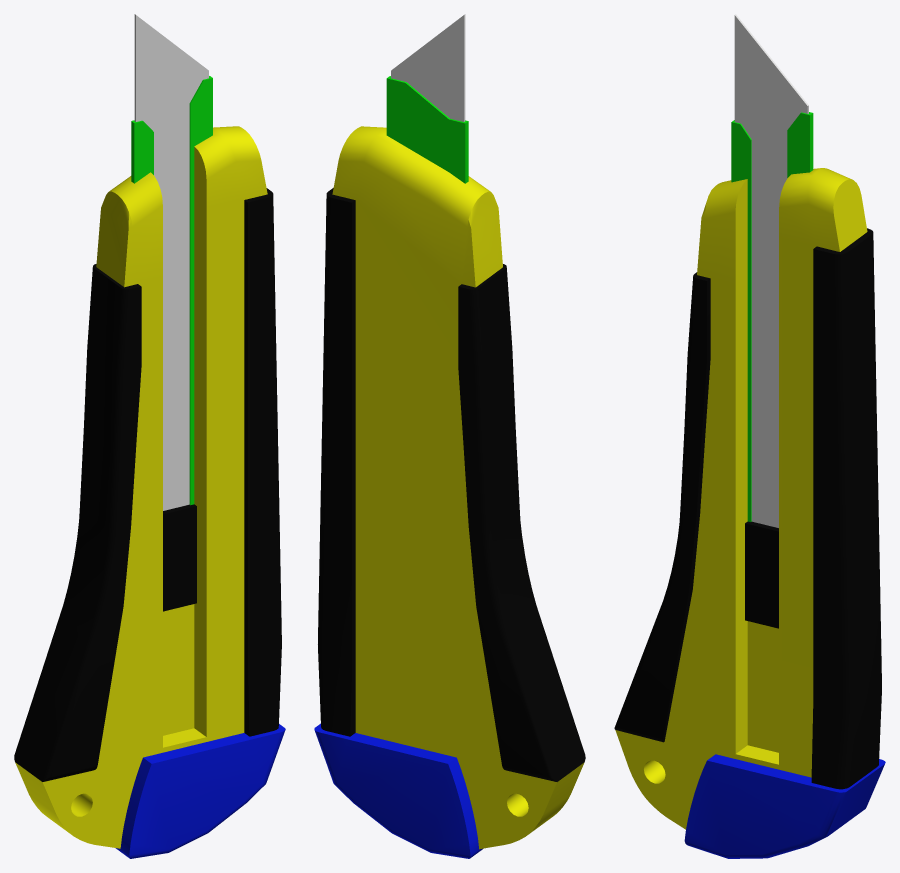
Rendered from Cutter_LP.fbx.
3 renders of one model, left to right at view 1: azimuth 30°, elevation 25°; view 2: azimuth 150°, elevation 25°; view 3: azimuth 330°, elevation 25°, orthographic.
Parts seen in each view (by area): view 1: Cutter_LP; view 2: Cutter_LP; view 3: Cutter_LP.
Part boxes in pixels (x1=…): Cutter_LP: x1=14, y1=14, x2=285, y2=858; Cutter_LP: x1=314, y1=14, x2=585, y2=858; Cutter_LP: x1=614, y1=14, x2=885, y2=858.
Size of the model in its own units: 3.88 by 12.8 by 1.26.
